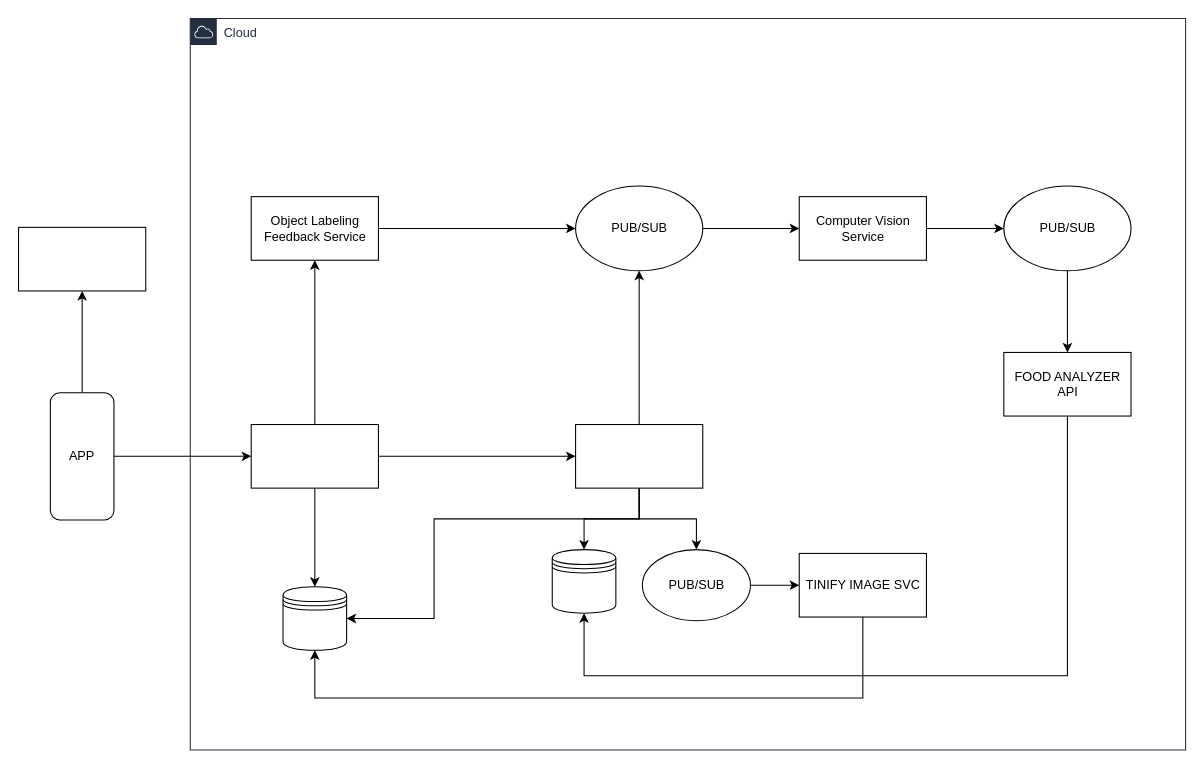
The diagram is 1204 pixels wide and 768 high, and some of its shapes have lost their labels. The shapes that lost their labels are listed below. From the top down, each one's box as (x1, y1, x2, y2) in pixels, then its label:
(17, 226, 146, 291): BAS AUTH
(250, 423, 378, 488): Mango BFF
(575, 423, 703, 488): FOOD HANDLER API
(551, 549, 616, 613): DB
(282, 586, 347, 650): STORAGE
